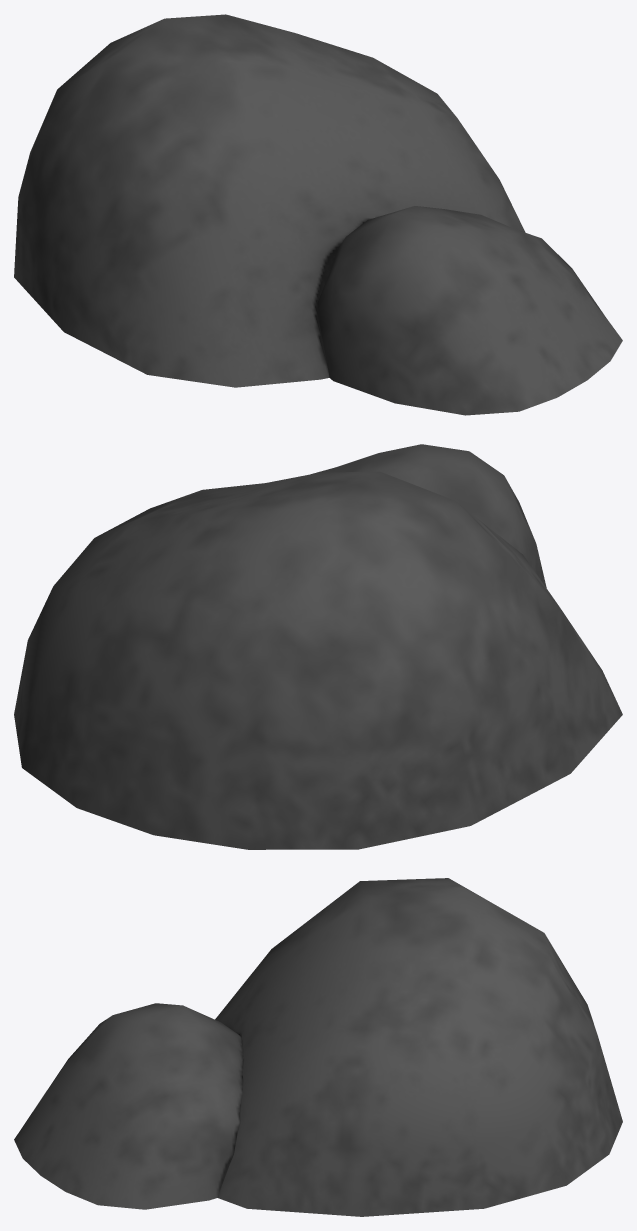
The model's file is Rock_1.fbx.
3 views of the same model, one above another, from view 1: azimuth 30°, elevation 25°; view 2: azimuth 150°, elevation 25°; view 3: azimuth 270°, elevation 25° (orthographic). The views are drawn at different scales.
Visible parts, largest first — view 1: Rock_1; view 2: Rock_1; view 3: Rock_1.
Part boxes in pixels (left/top/right/bottom): Rock_1: left=14, top=14, right=622, bottom=415; Rock_1: left=14, top=444, right=622, bottom=849; Rock_1: left=14, top=878, right=622, bottom=1216.
Size of the model in its own units: 97 by 49.19 by 131.
1 material, 1 textured.
